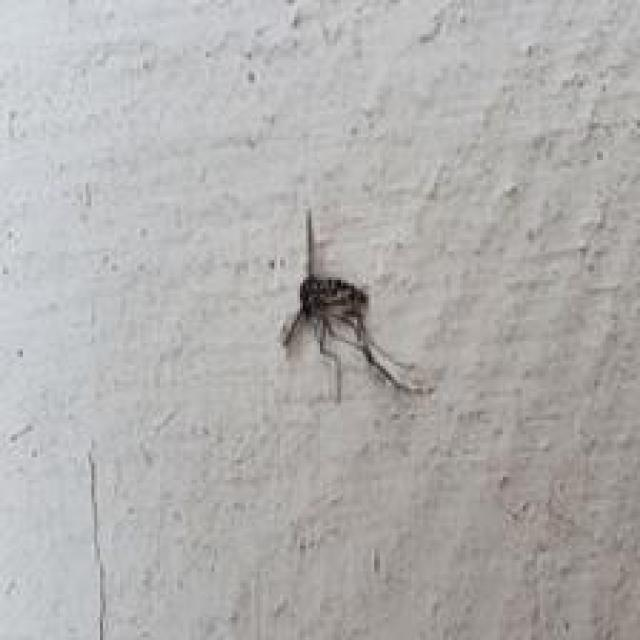Aedes albopictus: (277, 207, 437, 404)
